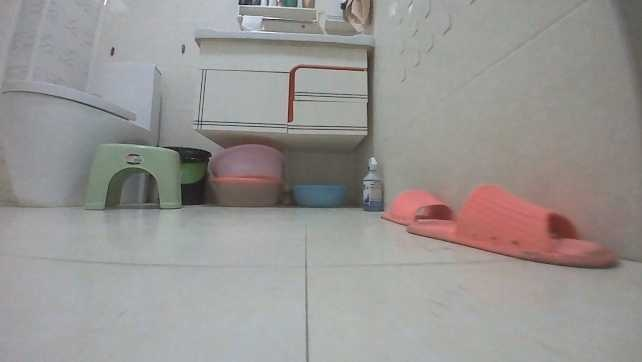plastic_stool: (84, 142, 185, 213)
slipper: (408, 184, 619, 269), (378, 186, 452, 230)
toilet: (0, 62, 162, 210)
washstand: (189, 28, 377, 151)
